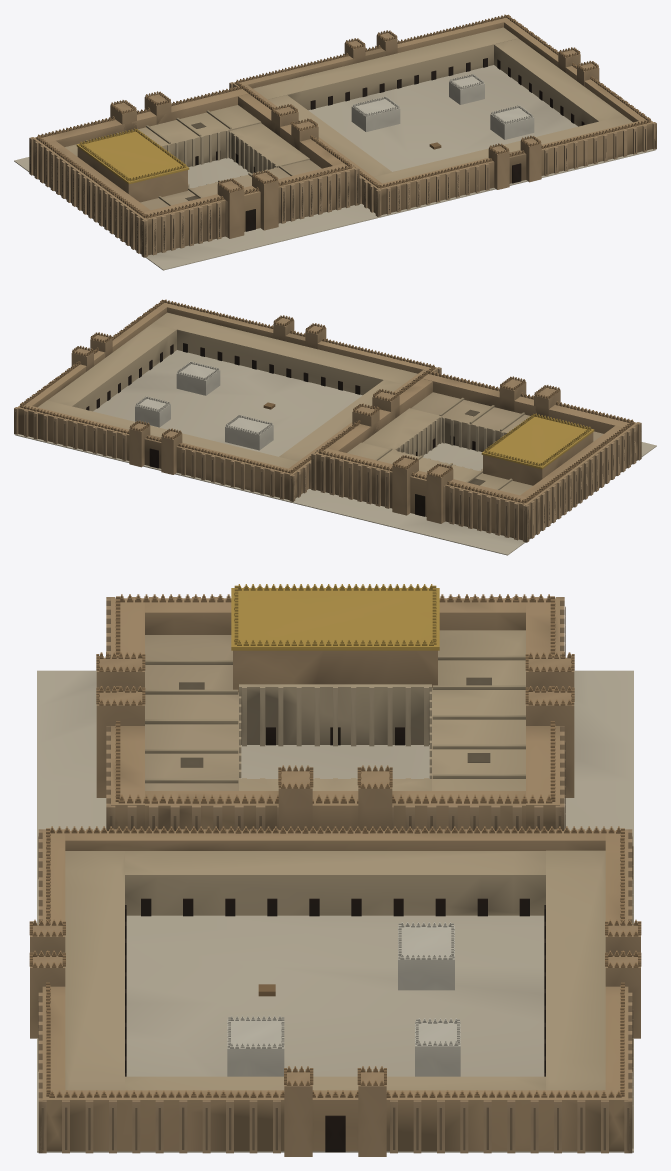
The model's file is esagila.glb.
3 renders of one model, top to bottom at view 1: azimuth 30°, elevation 25°; view 2: azimuth 150°, elevation 25°; view 3: azimuth 270°, elevation 25°, orthographic. The views are drawn at different scales.
Parts seen in each view (by area): view 1: p2_forecourt, p1_temple, p0_ground, p3_crenellations; view 2: p2_forecourt, p1_temple, p0_ground, p3_crenellations; view 3: p2_forecourt, p1_temple, p0_ground, p3_crenellations.
Boxes of the visible parts, x1=… form: p2_forecourt: x1=229, y1=15, x2=656, y2=216; p1_temple: x1=29, y1=85, x2=359, y2=257; p0_ground: x1=14, y1=65, x2=655, y2=270; p3_crenellations: x1=36, y1=14, x2=650, y2=218; p2_forecourt: x1=14, y1=300, x2=441, y2=501; p1_temple: x1=311, y1=370, x2=641, y2=542; p0_ground: x1=15, y1=350, x2=656, y2=555; p3_crenellations: x1=20, y1=299, x2=634, y2=503; p2_forecourt: x1=29, y1=829, x2=641, y2=1156; p1_temple: x1=96, y1=588, x2=574, y2=830; p0_ground: x1=37, y1=670, x2=633, y2=1152; p3_crenellations: x1=46, y1=584, x2=624, y2=1097.
Bounding box in the file's own units: 203 × 20.1 × 108.
